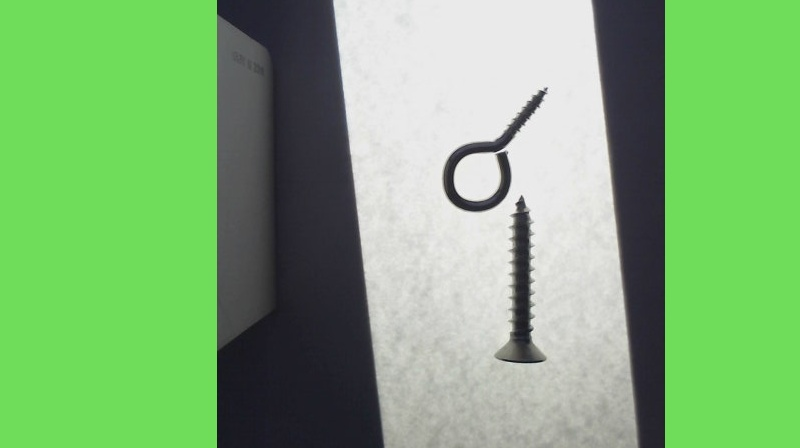O001: (441, 84, 549, 213)
S001: (496, 192, 546, 366)
